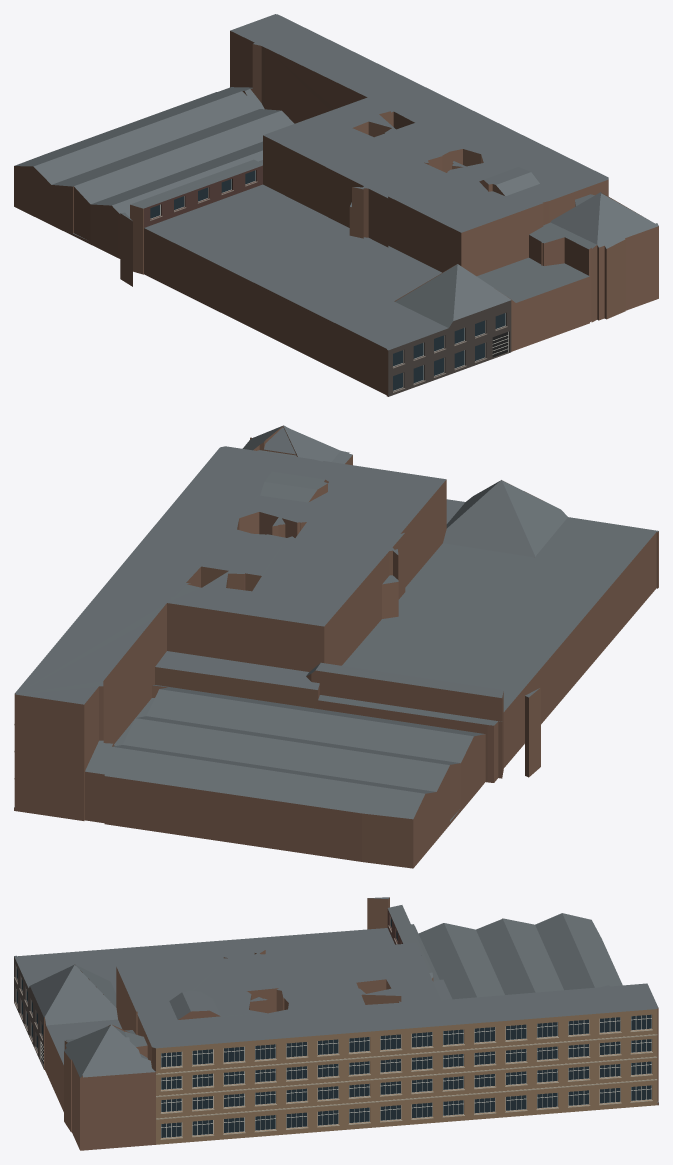
Rendered from recipe-large-hamerkanaal-175-112128.glb.
The picture shows the model from 3 angles, top to bottom: view 1: azimuth 30°, elevation 25°; view 2: azimuth 150°, elevation 25°; view 3: azimuth 270°, elevation 25°; orthographic projection. The views are drawn at different scales.
Parts seen in each view (by area): view 1: hamerkanaal-175-112128; view 2: hamerkanaal-175-112128; view 3: hamerkanaal-175-112128.
Boxes of the visible parts, bbox=[...] form: hamerkanaal-175-112128: bbox=[14, 14, 658, 396]; hamerkanaal-175-112128: bbox=[14, 425, 658, 868]; hamerkanaal-175-112128: bbox=[14, 897, 658, 1150].
Bounding box in the file's own units: 60.16 × 15.55 × 86.2.
